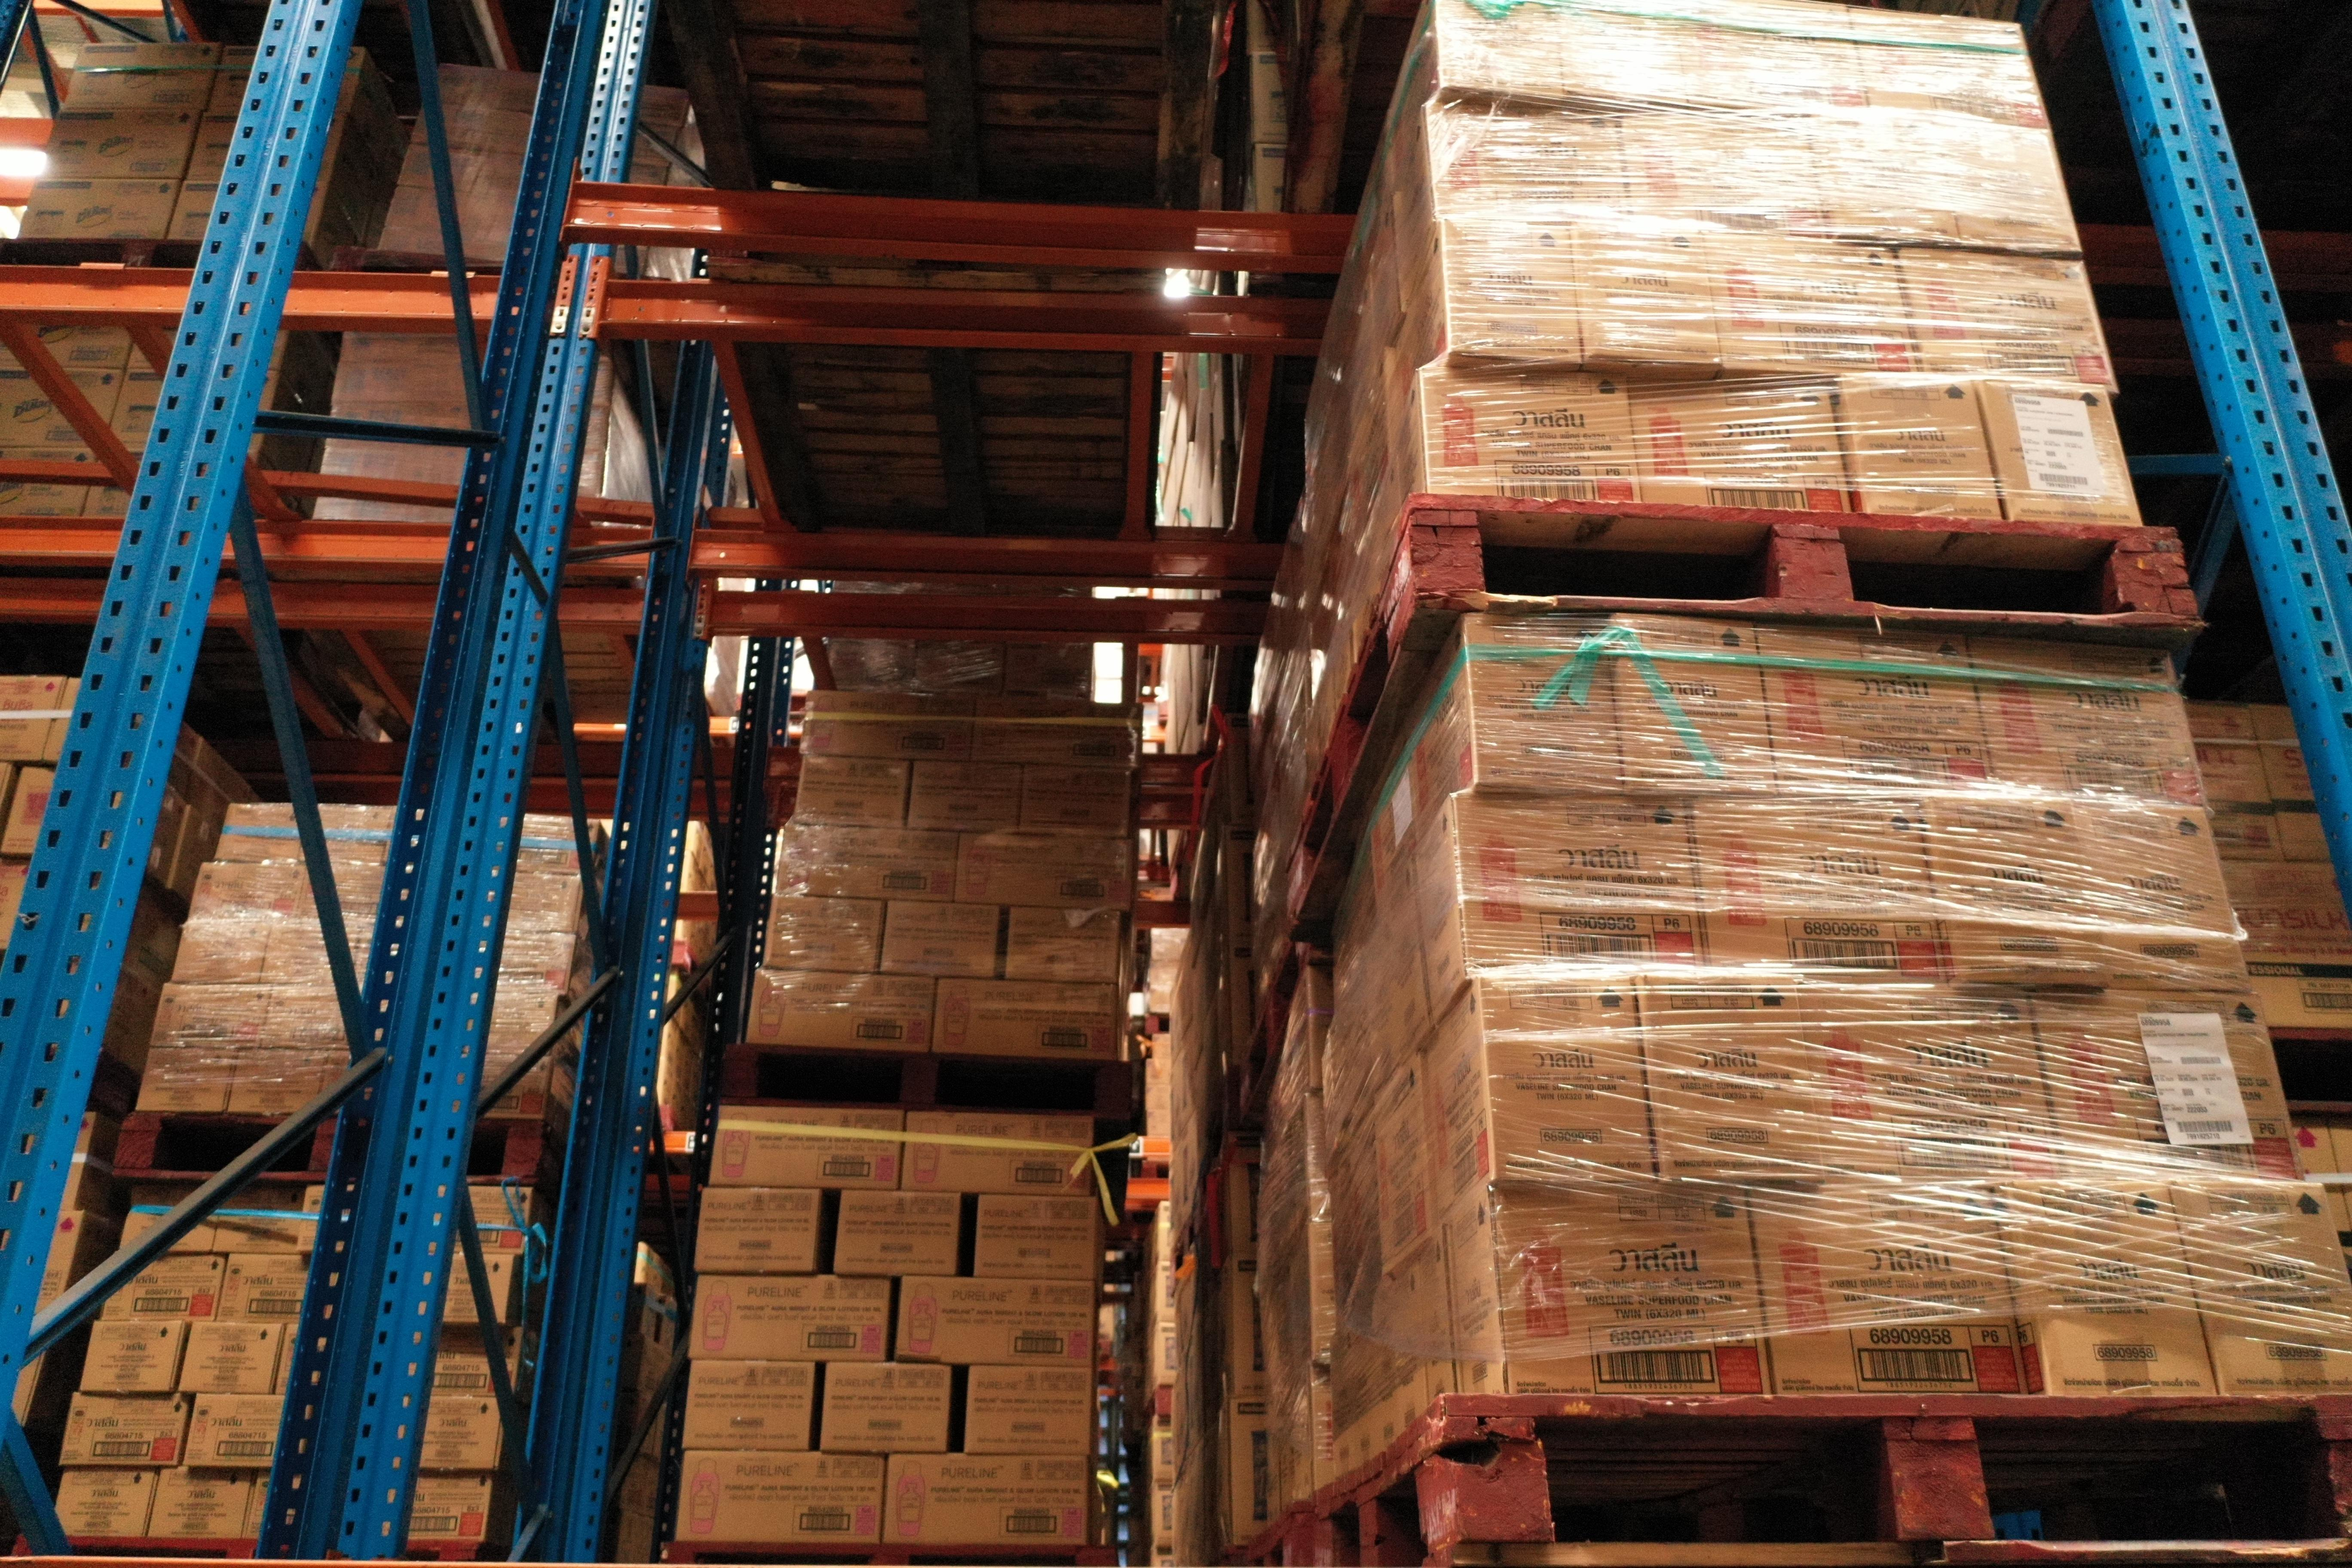-: (1487, 1178, 1773, 1398), (1746, 1181, 2032, 1398), (2026, 983, 2306, 1185), (1794, 978, 2065, 1185), (1995, 1181, 2221, 1402), (1690, 793, 1948, 983), (1451, 791, 1706, 980), (1962, 625, 2207, 808), (1759, 619, 1990, 803), (2170, 1178, 2352, 1398), (1633, 976, 1825, 1185), (1473, 976, 1657, 1185), (1921, 794, 2103, 989), (2072, 793, 2250, 989), (1893, 243, 2117, 388), (1421, 366, 1643, 509), (1703, 227, 1916, 374), (1629, 371, 1853, 511), (1610, 611, 1774, 794), (1461, 609, 1622, 793), (1620, 105, 1827, 238), (1976, 367, 2147, 527), (1423, 98, 1631, 220), (1839, 371, 2005, 520), (1850, 7, 2051, 129), (1675, 0, 1869, 115), (1573, 215, 1722, 366), (1438, 215, 1584, 367), (1935, 115, 2082, 257), (1806, 112, 1958, 245)
2: (675, 1447, 884, 1547), (892, 1274, 1095, 1370), (882, 1452, 1087, 1547), (688, 1272, 889, 1363), (899, 1106, 1092, 1197), (709, 1104, 905, 1193), (931, 973, 1120, 1062), (745, 968, 934, 1052), (775, 822, 959, 906), (959, 829, 1125, 912), (971, 693, 1143, 772), (801, 689, 976, 765), (819, 1360, 952, 1454), (961, 1361, 1090, 1458), (684, 1360, 814, 1451), (831, 1188, 959, 1277), (693, 1185, 819, 1274), (975, 1192, 1097, 1283), (878, 896, 1003, 982), (61, 1391, 192, 1466), (763, 896, 882, 976), (905, 759, 1020, 838), (791, 754, 908, 831), (149, 980, 273, 1052), (100, 1255, 226, 1325), (1006, 906, 1118, 983), (1018, 761, 1129, 838), (79, 1319, 184, 1396), (180, 1389, 285, 1466), (145, 1465, 252, 1540), (52, 1466, 159, 1538), (178, 1323, 283, 1395), (189, 859, 308, 922), (166, 917, 273, 987), (117, 1183, 220, 1253), (261, 983, 366, 1052), (213, 1256, 313, 1325), (227, 1045, 327, 1113), (133, 1046, 234, 1113), (430, 1332, 525, 1402), (257, 920, 359, 985), (406, 1472, 493, 1545), (290, 859, 387, 924), (420, 1396, 504, 1470), (215, 803, 315, 864), (213, 1188, 306, 1253), (297, 803, 394, 864), (504, 870, 584, 940), (495, 931, 576, 999), (441, 1249, 513, 1325), (455, 1185, 532, 1255), (476, 1052, 551, 1120), (516, 817, 600, 877), (488, 992, 558, 1055)
